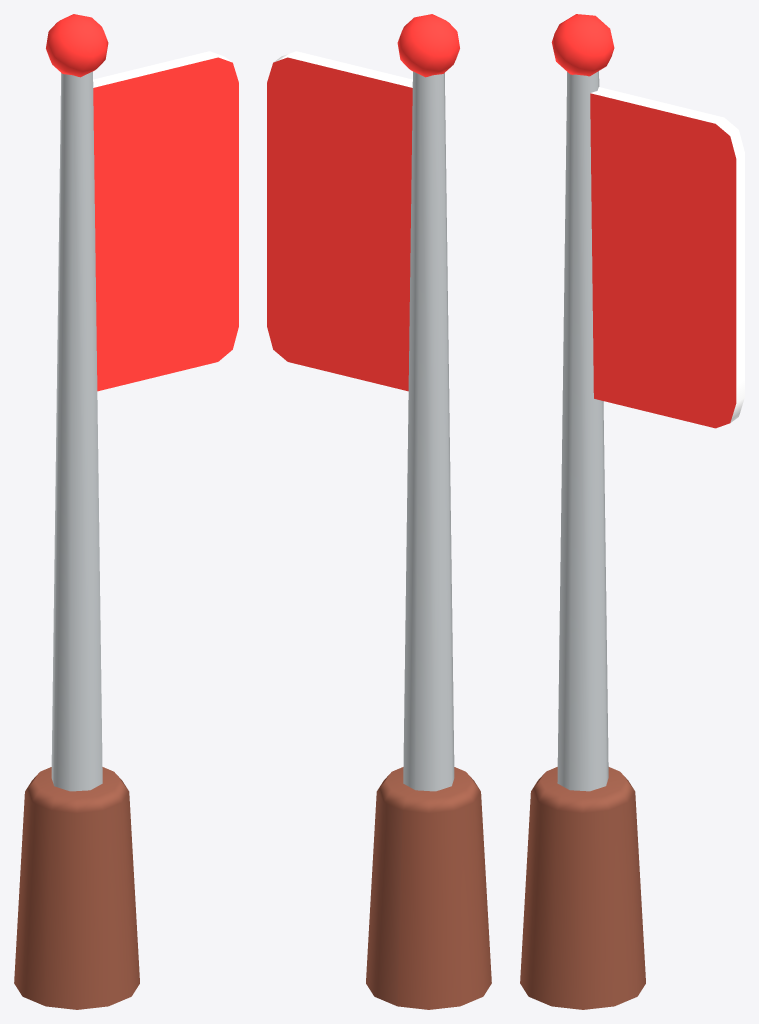
The model's file is flag_red_001.glb.
3 views of the same model, side by side, from view 1: azimuth 30°, elevation 25°; view 2: azimuth 150°, elevation 25°; view 3: azimuth 330°, elevation 25° (orthographic).
Parts seen in each view (by area): view 1: flag_red_001; view 2: flag_red_001; view 3: flag_red_001.
Part boxes in pixels (bbox=[...]): flag_red_001: bbox=[14, 14, 238, 1009]; flag_red_001: bbox=[267, 14, 491, 1009]; flag_red_001: bbox=[520, 14, 744, 1009].
Size of the model in its own units: 1.09 by 4.74 by 0.5606.
1 material, 1 textured.
